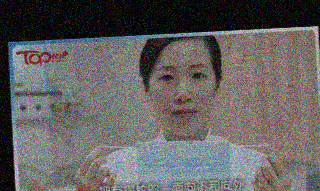without_mask: (148, 59, 216, 136)
